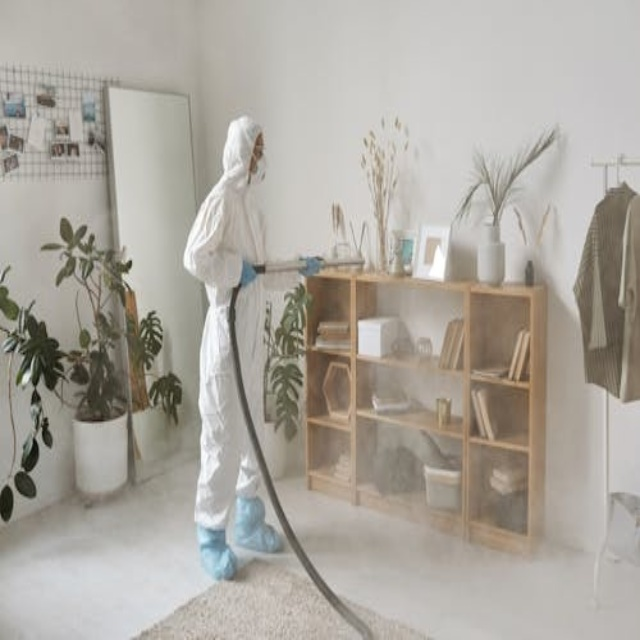Gafas: (251, 138, 264, 161)
Guantes: (239, 259, 261, 289), (298, 255, 325, 276)
Mascara: (249, 153, 266, 185)
